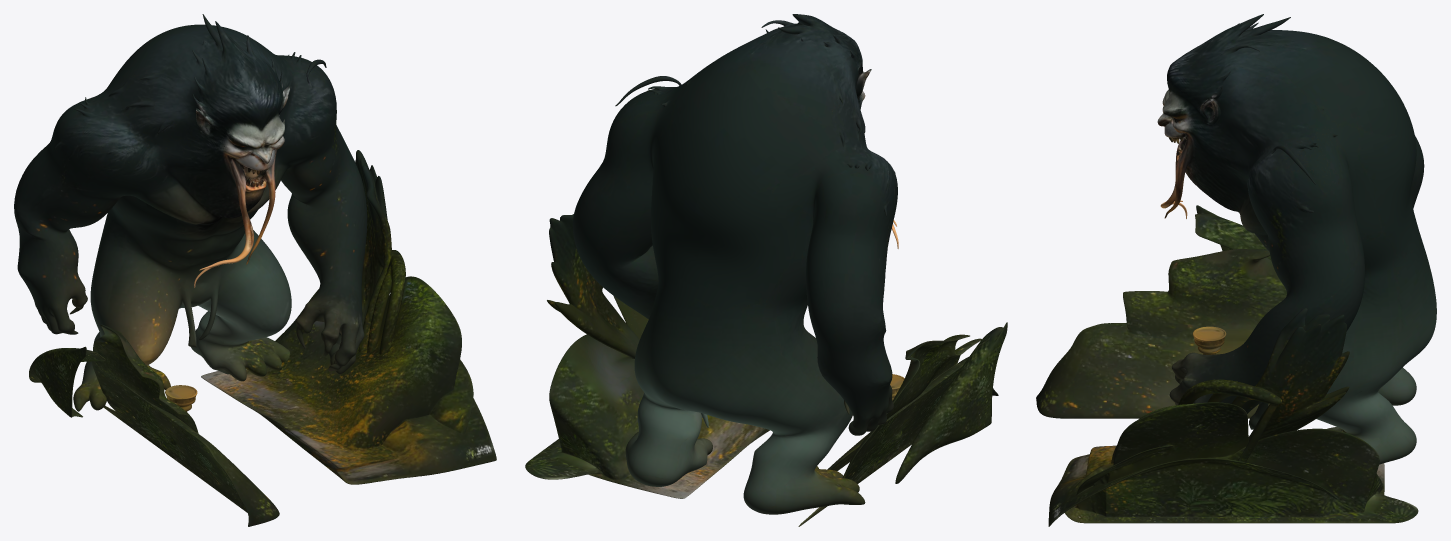
Rendered from jian.glb.
The picture shows the model from 3 angles, left to right: view 1: azimuth 30°, elevation 25°; view 2: azimuth 150°, elevation 25°; view 3: azimuth 270°, elevation 25°; orthographic projection. The views are drawn at different scales.
Parts seen in each view (by area): view 1: node_0; view 2: node_0; view 3: node_0.
Boxes of the visible parts, x1,y1,x2,y2 form: node_0: (14, 14, 496, 526); node_0: (525, 14, 1007, 526); node_0: (1036, 14, 1436, 526).
Bounding box in the file's own units: 0.705 × 0.7832 × 0.671.
Materials: 1 (1 with a texture image).
